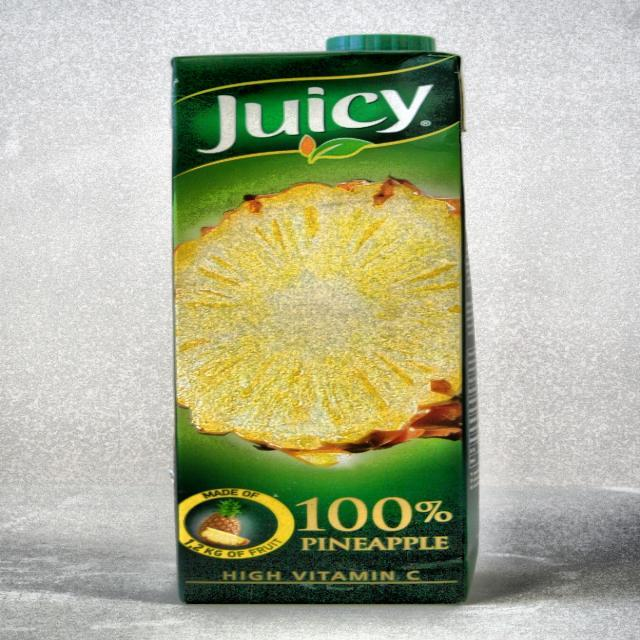cardboard: (170, 38, 478, 605)
